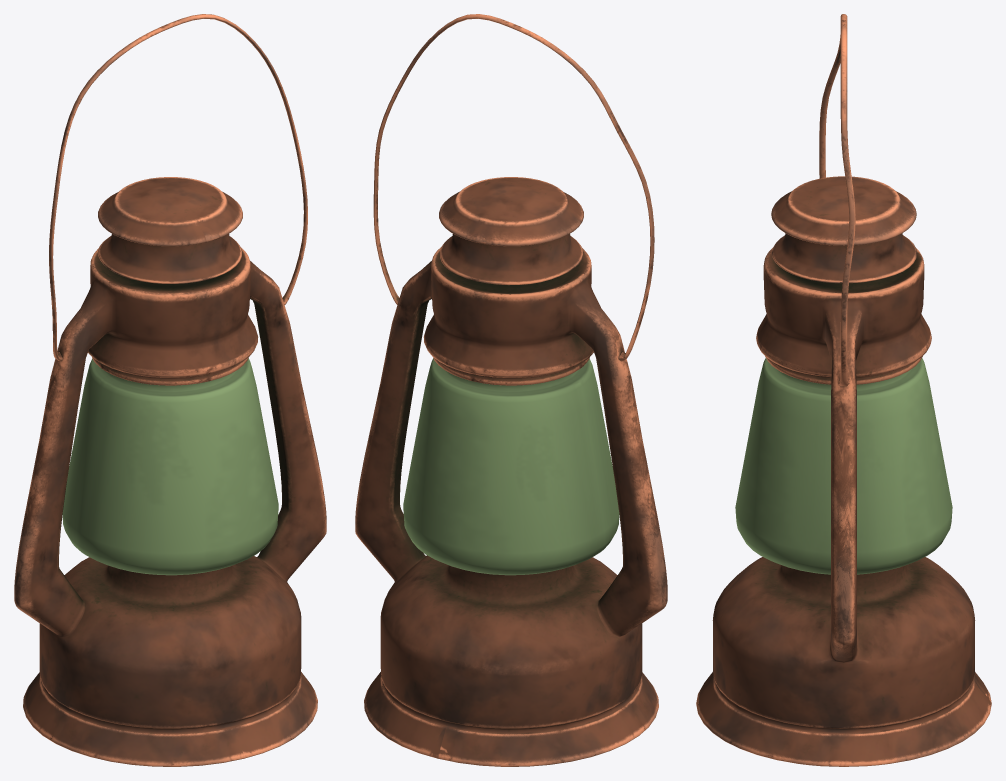
File: Lamp.glb
3 renders of one model, left to right at view 1: azimuth 30°, elevation 25°; view 2: azimuth 150°, elevation 25°; view 3: azimuth 270°, elevation 25°, orthographic.
Parts seen in each view (by area): view 1: Lampara; view 2: Lampara; view 3: Lampara.
Boxes of the visible parts, bbox=[...] form: Lampara: bbox=[14, 14, 326, 766]; Lampara: bbox=[355, 14, 667, 766]; Lampara: bbox=[696, 14, 991, 766].
Size of the model in its own units: 2.28 by 4.8 by 1.88.
Materials: 1 (1 with a texture image).
